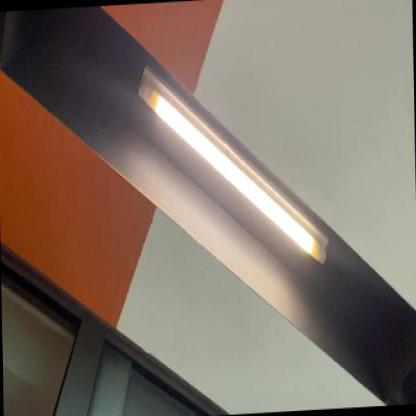light_on: (126, 45, 334, 287)
